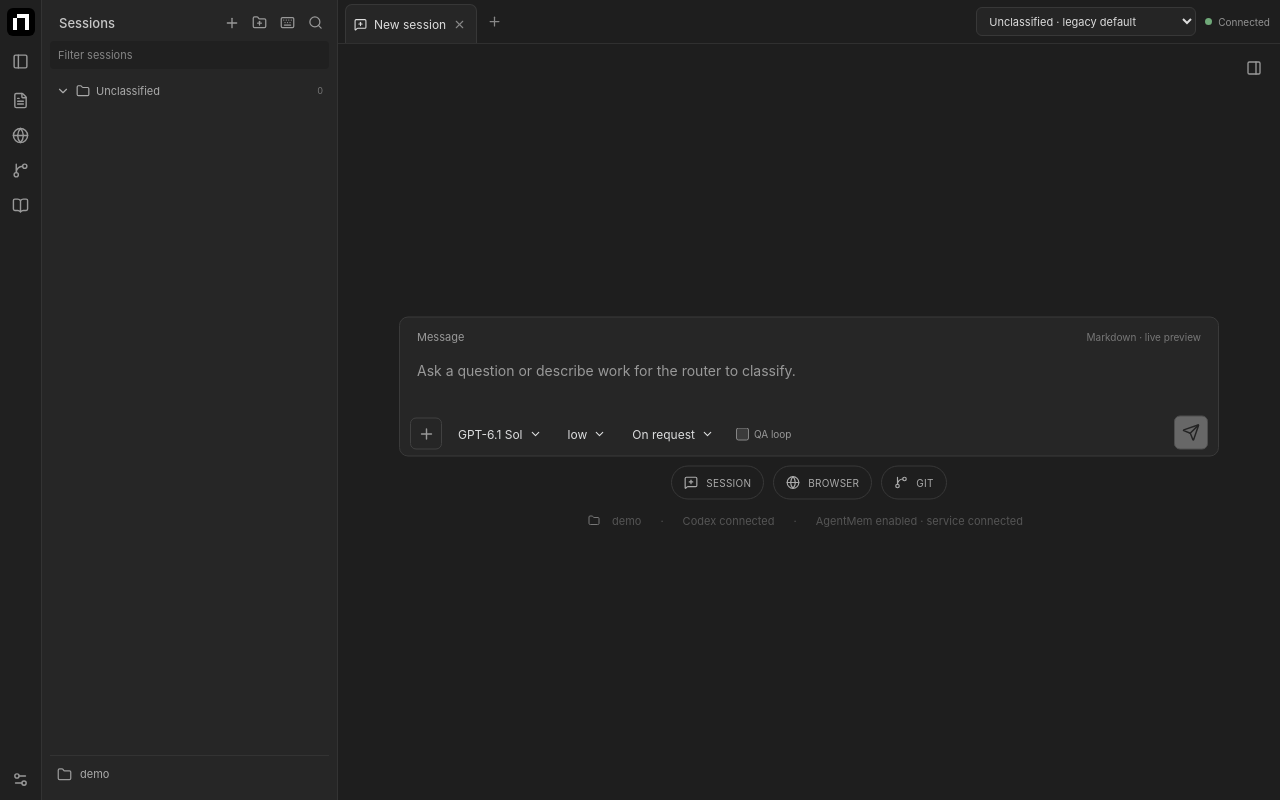
local task shell › navigates, hides, and restores its native Browser peer view
The image size is (1280, 800).
Expected: the field named "Task message" is shown, [417, 362, 796, 378]
Click the tab named "Browser".
click(20, 135)  # box [6, 120, 36, 150]
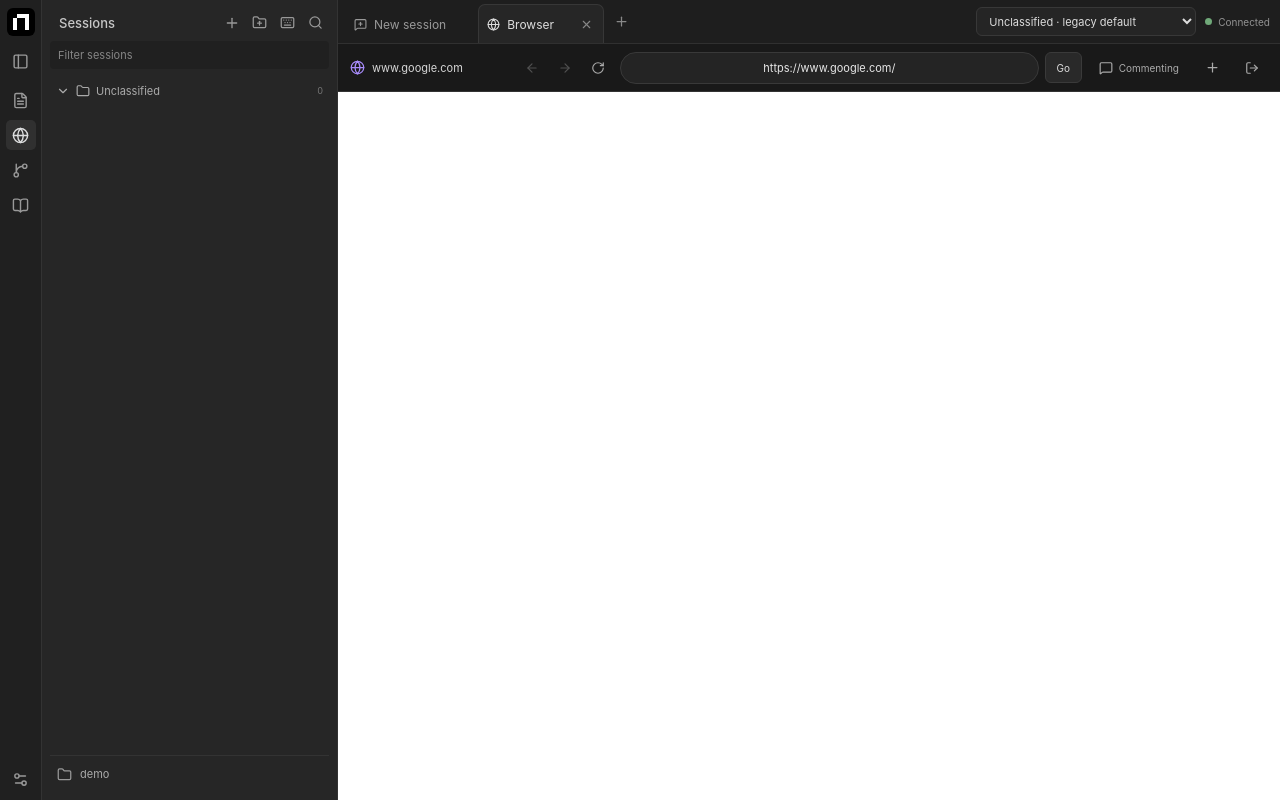
Replace the text in the dropdown named "website address" with "https://example.com/fixture" at (829, 68), box [620, 52, 1039, 84]
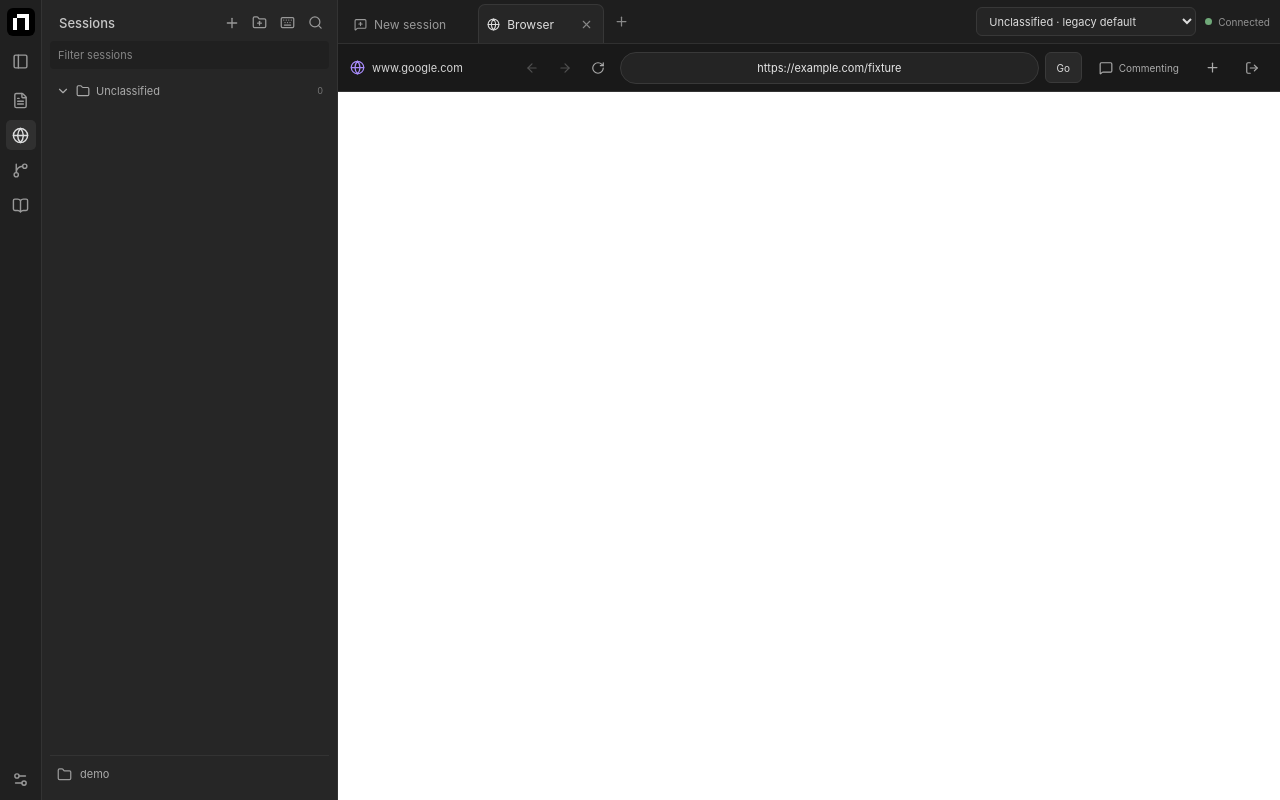
Click the button "Go".
click(1063, 68)  # box [1045, 52, 1082, 83]
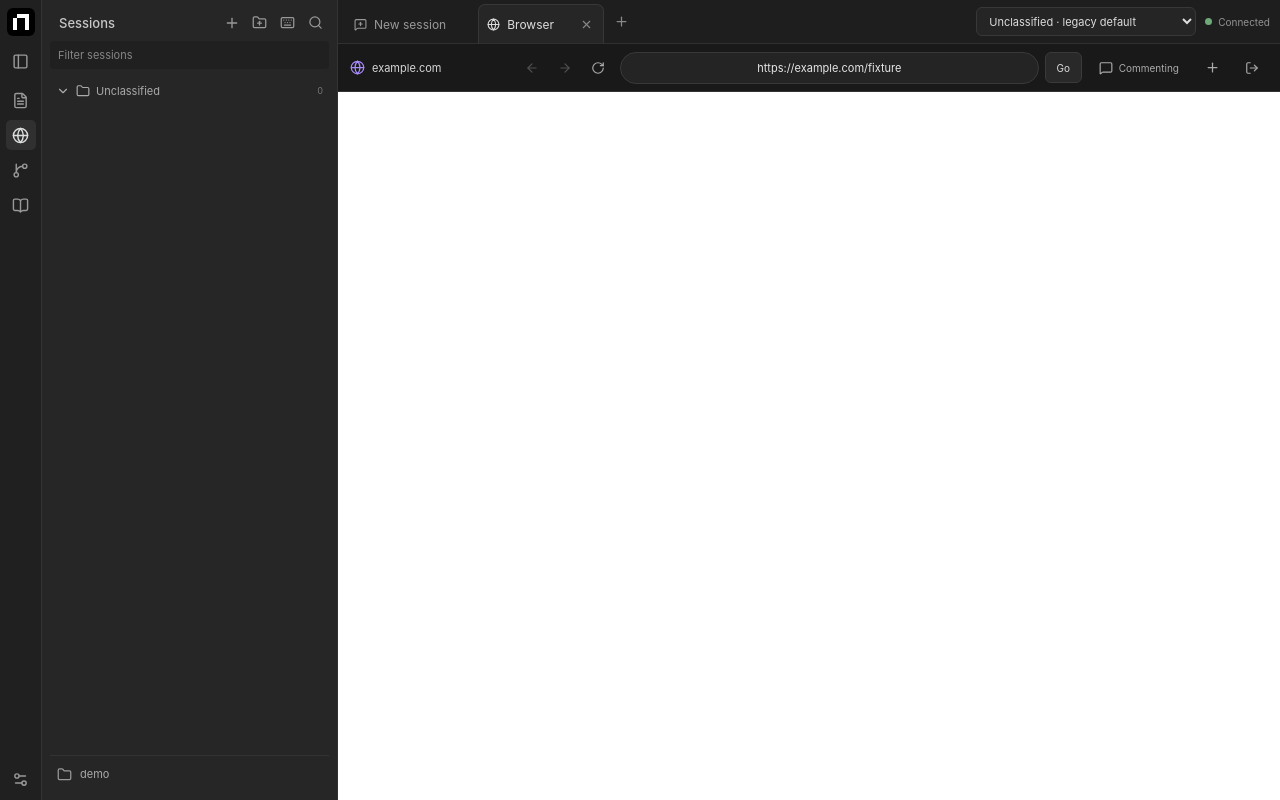
Click the tab with aria-label "New session".
click(400, 24)  # box [354, 12, 446, 36]
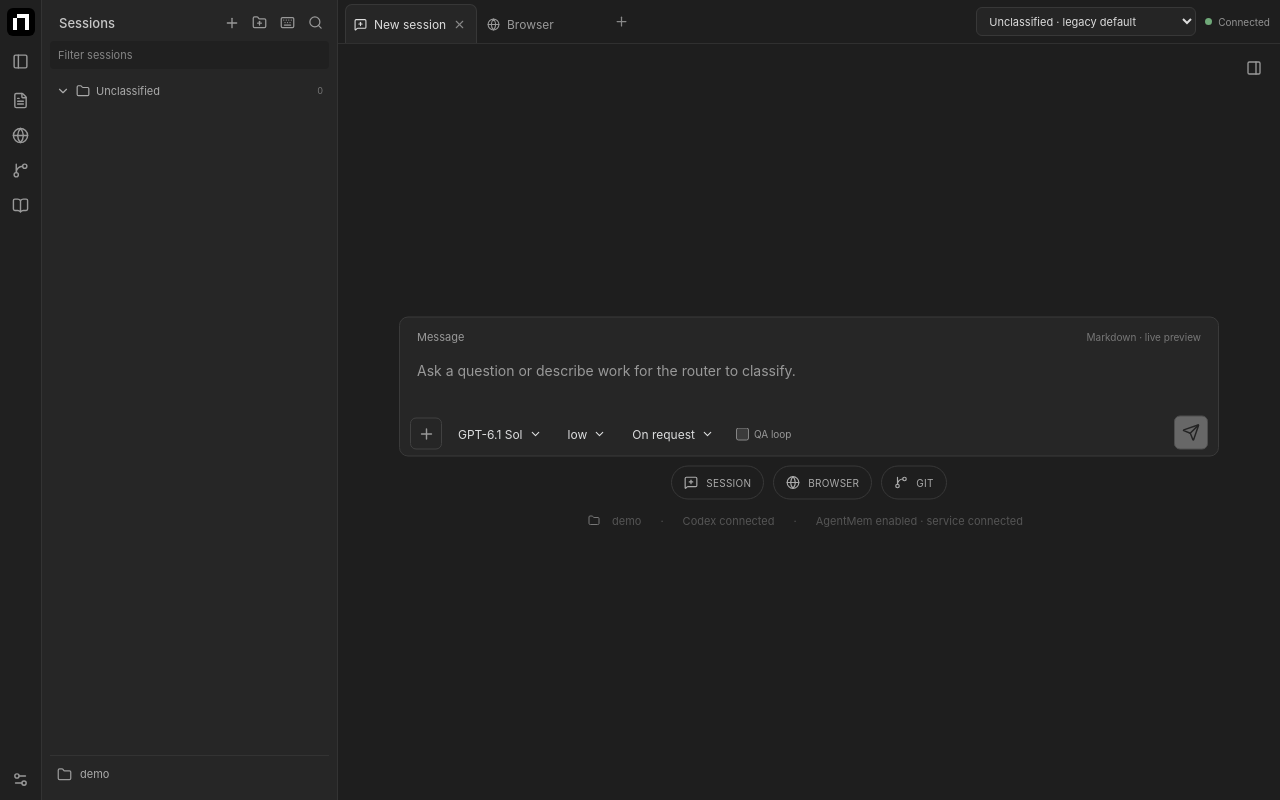
Click the tab with aria-label "Browser".
click(530, 24)  # box [487, 12, 573, 36]
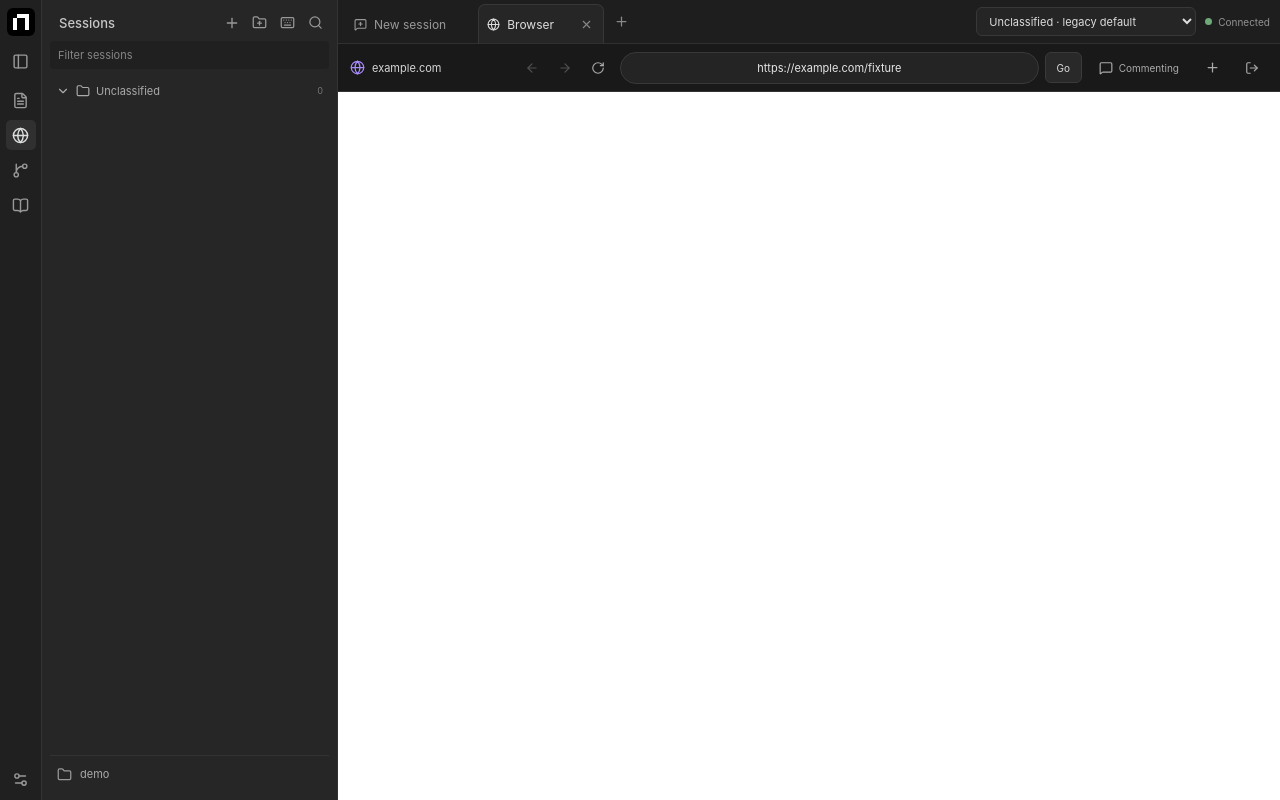
Expected: the element with class "native-browser-page" is shown
